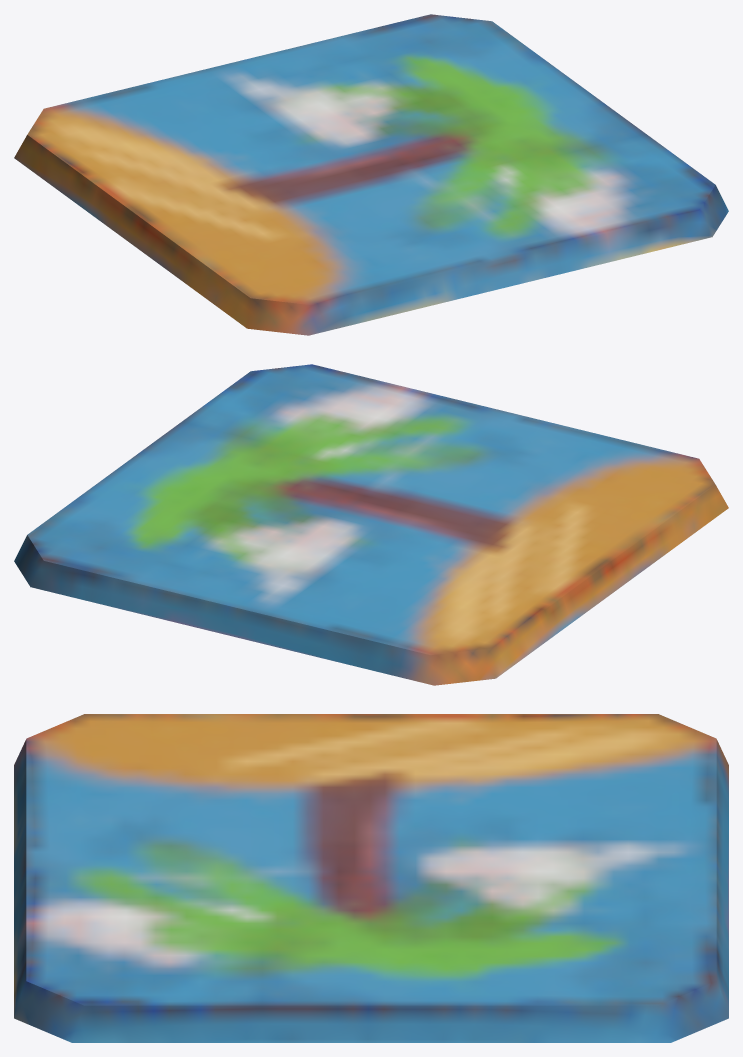
File: SM_Magnets_11.fbx
3 renders of one model, top to bottom at view 1: azimuth 30°, elevation 25°; view 2: azimuth 150°, elevation 25°; view 3: azimuth 270°, elevation 25°, orthographic. The views are drawn at different scales.
Visible parts, largest first — view 1: SM_Magnets_11_LOD0; view 2: SM_Magnets_11_LOD0; view 3: SM_Magnets_11_LOD0.
Part boxes in pixels (box(x1,y1,x2,y2)): SM_Magnets_11_LOD0: box(14, 14, 728, 335); SM_Magnets_11_LOD0: box(14, 364, 728, 685); SM_Magnets_11_LOD0: box(14, 714, 728, 1042).
Bounding box in the file's own units: 10 × 10 × 0.4929.
Materials: 1 (1 with a texture image).
